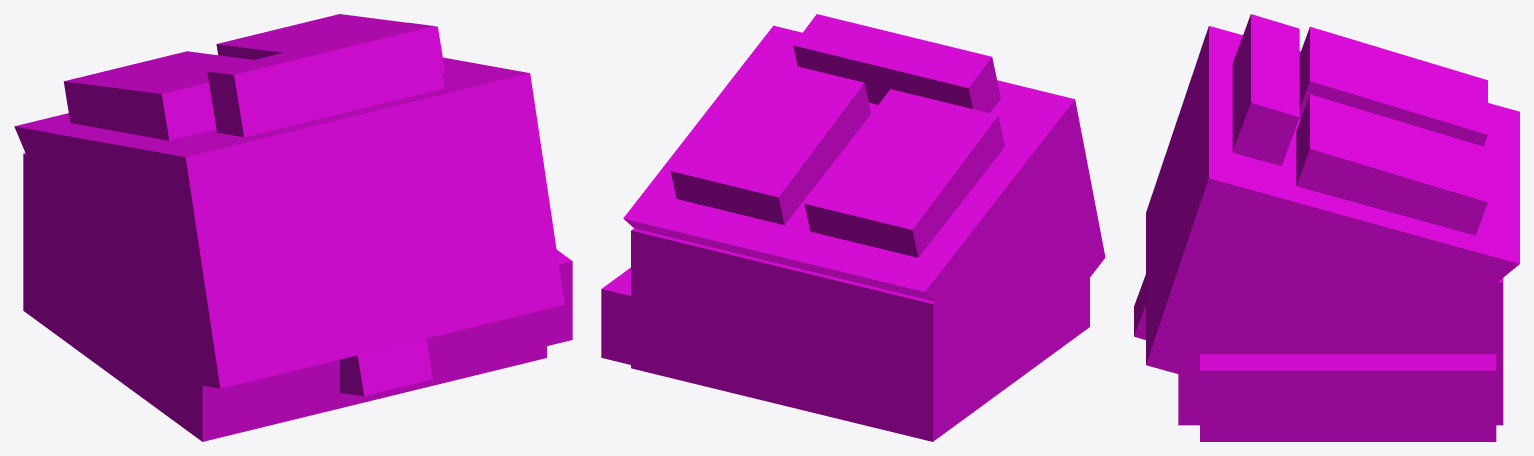
File: SM_LifePakCollider.fbx
The picture shows the model from 3 angles, left to right: view 1: azimuth 30°, elevation 25°; view 2: azimuth 150°, elevation 25°; view 3: azimuth 270°, elevation 25°; orthographic projection. The views are drawn at different scales.
Parts seen in each view (by area): view 1: LifePakCollision; view 2: LifePakCollision; view 3: LifePakCollision.
Part boxes in pixels (<box>): LifePakCollision: <box>14,14,572,441</box>; LifePakCollision: <box>601,14,1105,441</box>; LifePakCollision: <box>1134,14,1519,441</box>.
Size of the model in its own units: 34.34 by 27.5 by 33.1.
